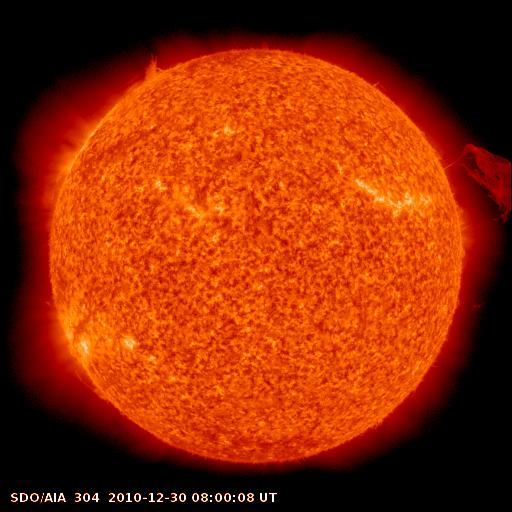prominence: (430, 127, 512, 231), (123, 44, 183, 98)
